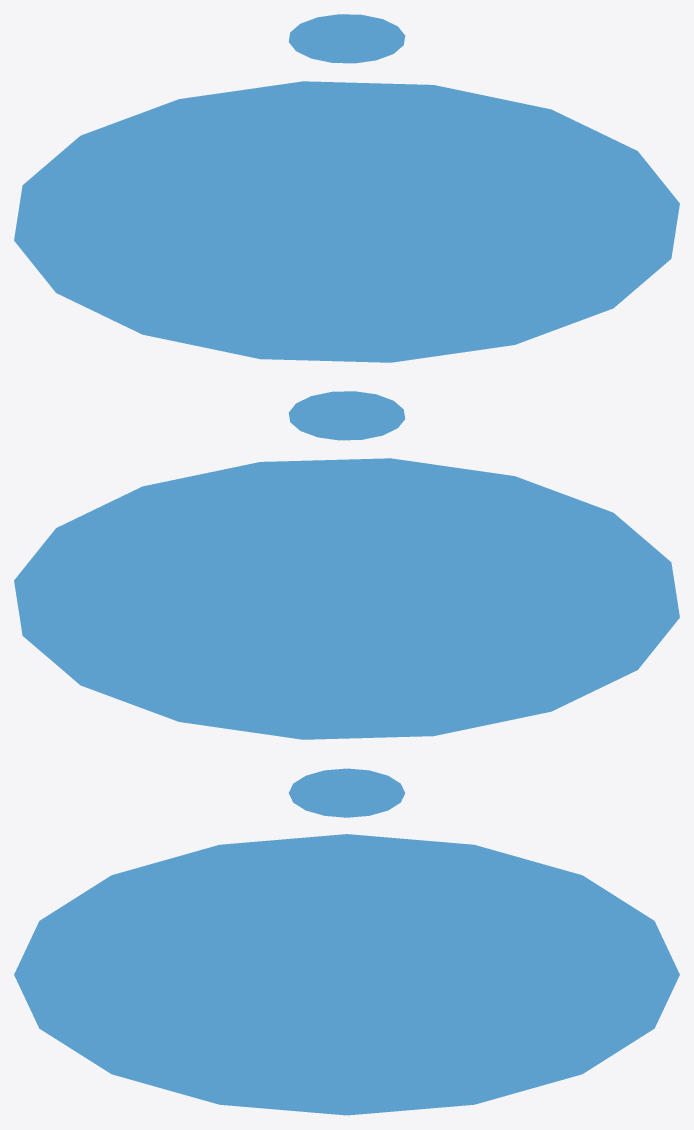
File: fountain_water.fbx
3 views of the same model, one above another, from view 1: azimuth 30°, elevation 25°; view 2: azimuth 150°, elevation 25°; view 3: azimuth 270°, elevation 25° (orthographic).
Visible parts, largest first — view 1: fountain_water; view 2: fountain_water; view 3: fountain_water.
Part boxes in pixels (x1,y1,x2,y2): fountain_water: (14,14,679,362); fountain_water: (14,391,679,739); fountain_water: (14,768,679,1115).
Bounding box in the file's own units: 400 × 120 × 400.
